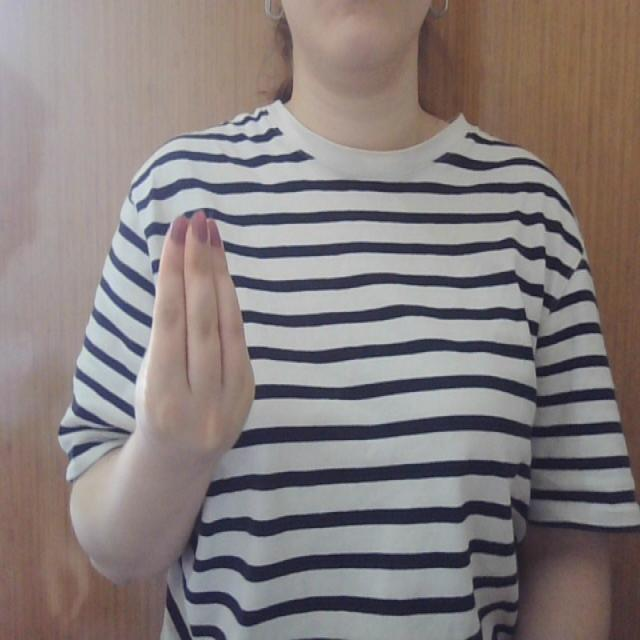iyi: (126, 206, 259, 451)
